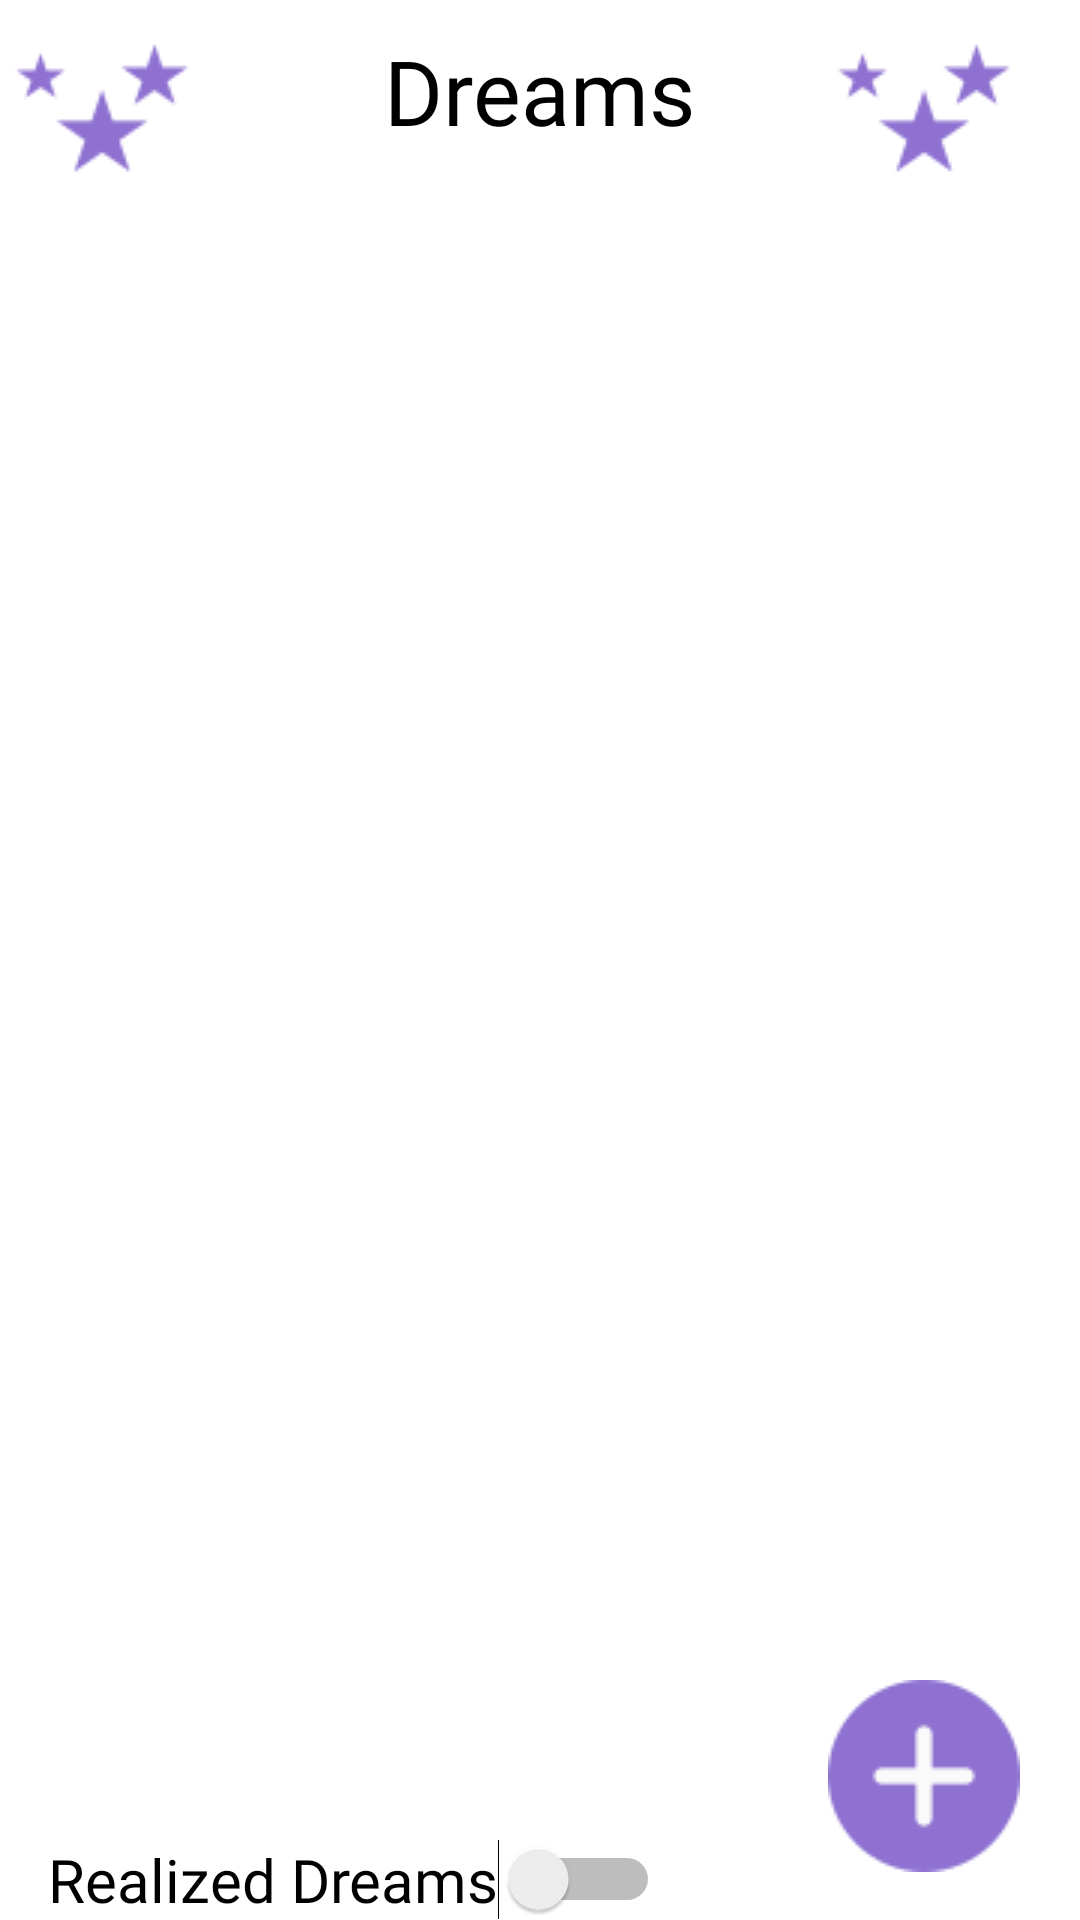

Named icons in this screenshot (1080 × 1920) and their bounding boxes, (x1, y1, x2, y2):
plus: (828, 1680, 1020, 1872)
star: (17, 44, 187, 172), (839, 44, 1009, 172)
